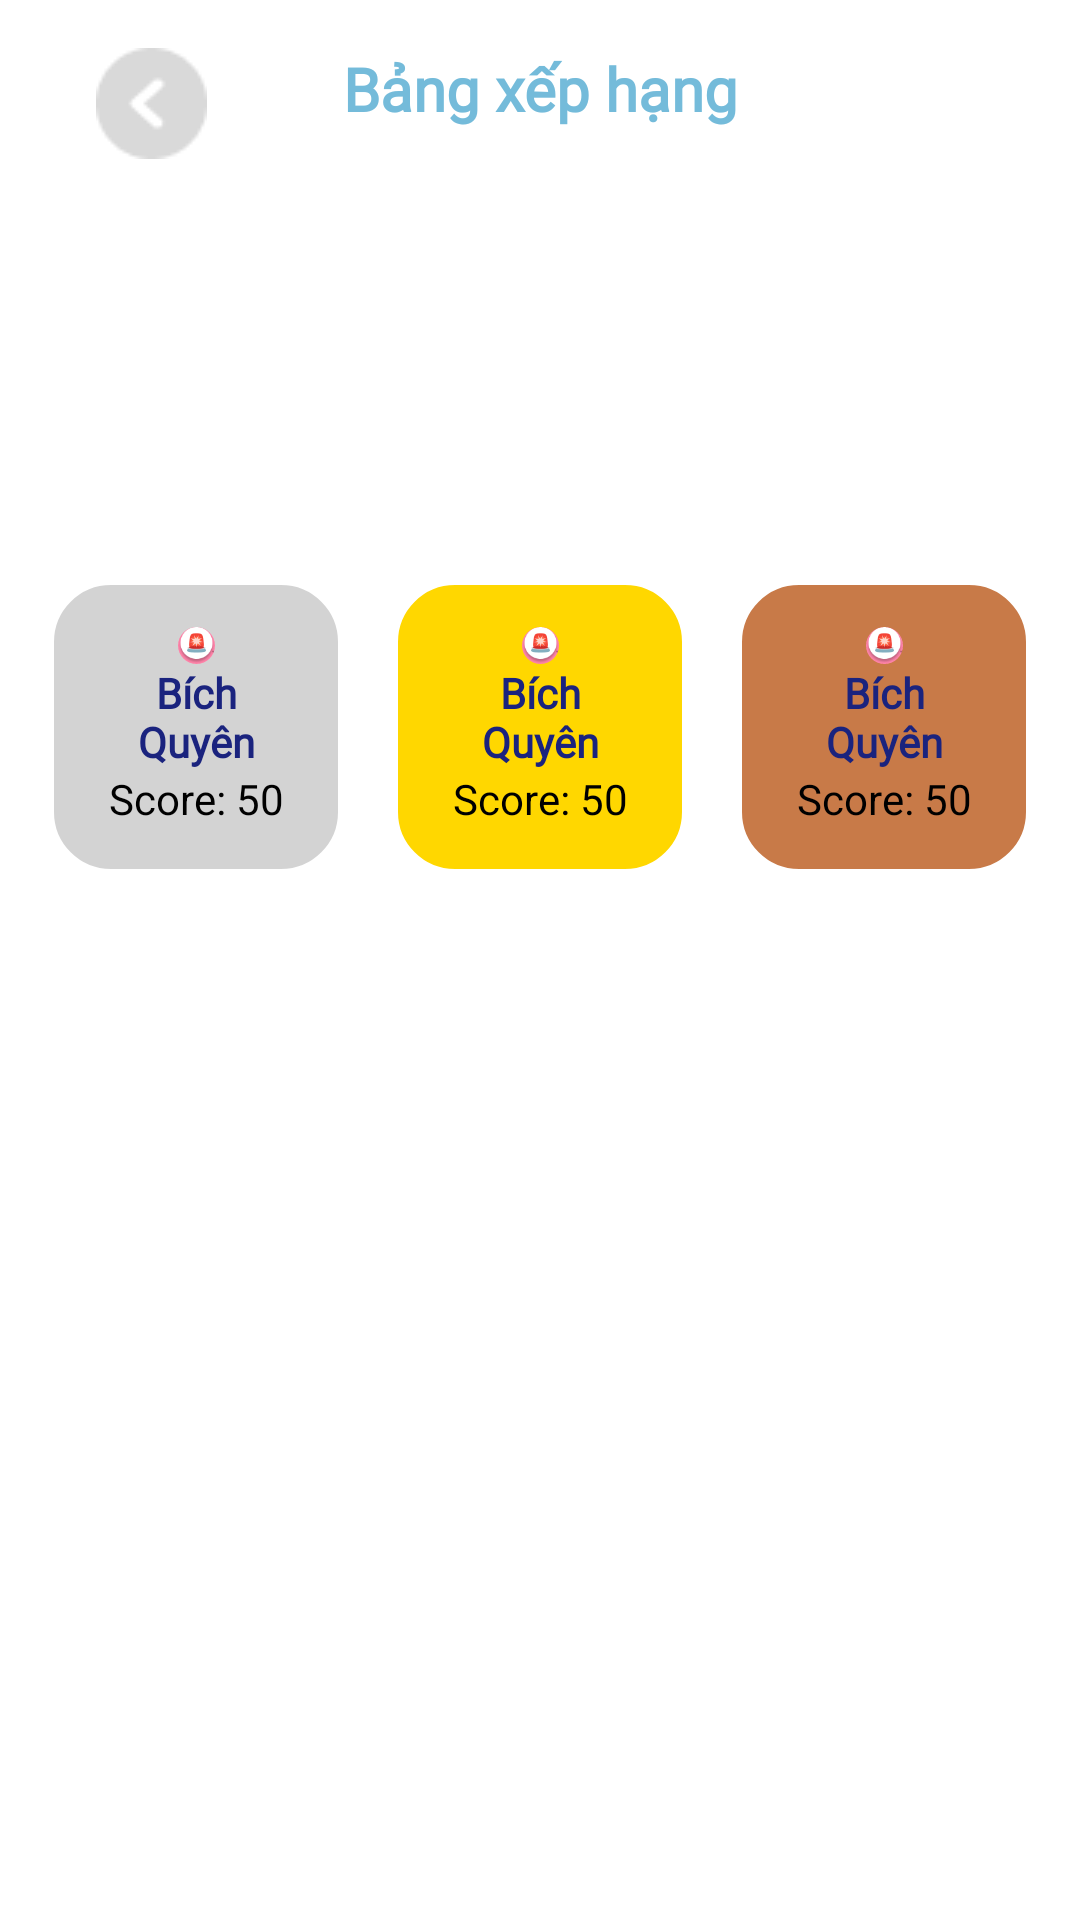

Locate icon controls on the screen. Image size 1080w x 1920h, boxes as (x1, y1, x2, y2).
report back: (96, 48, 207, 159)
